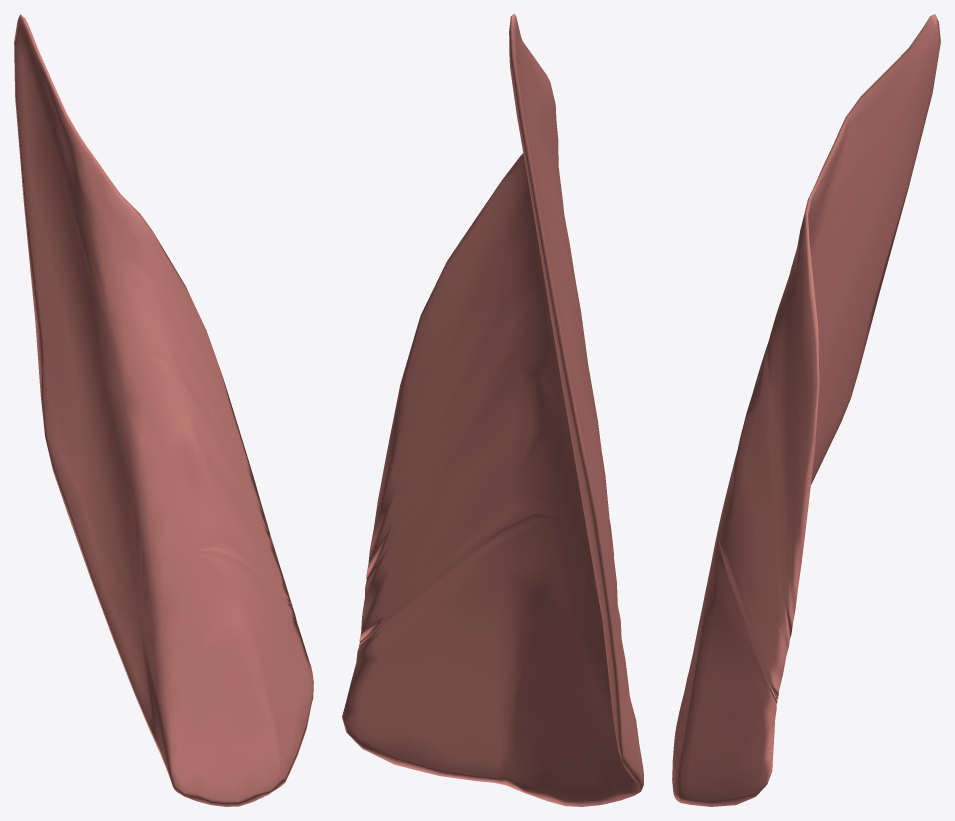
3 renders of one model, left to right at view 1: azimuth 30°, elevation 25°; view 2: azimuth 150°, elevation 25°; view 3: azimuth 270°, elevation 25°, orthographic. The views are drawn at different scales.
Visible parts, largest first — view 1: ZA_35da99efa65cfe5f; view 2: ZA_35da99efa65cfe5f; view 3: ZA_35da99efa65cfe5f.
Part boxes in pixels (x1,y1,x2,y2): ZA_35da99efa65cfe5f: [14, 14, 313, 806]; ZA_35da99efa65cfe5f: [342, 14, 643, 806]; ZA_35da99efa65cfe5f: [672, 14, 940, 806].
Size of the model in its own units: 0.0229 by 0.0689 by 0.023.
